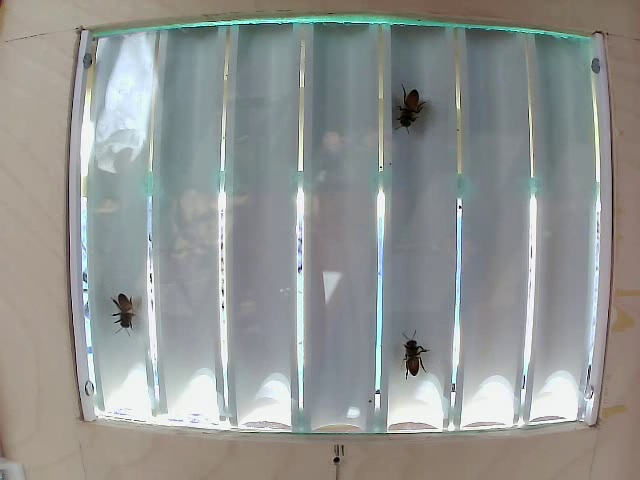bee: (101, 272, 159, 351), (394, 71, 433, 133), (385, 337, 417, 370)
